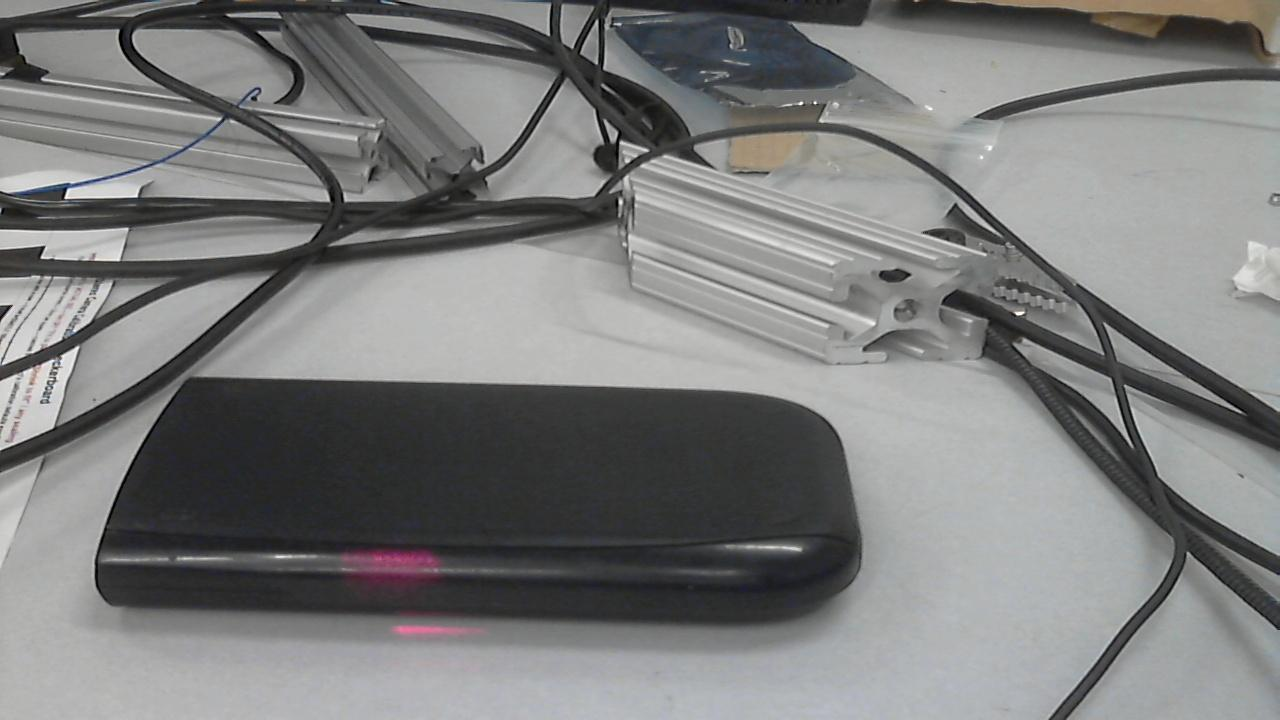Object insulated water bottle - Material metal - Color navy blue - Pdfname Uop6e: (307, 532, 474, 604)
